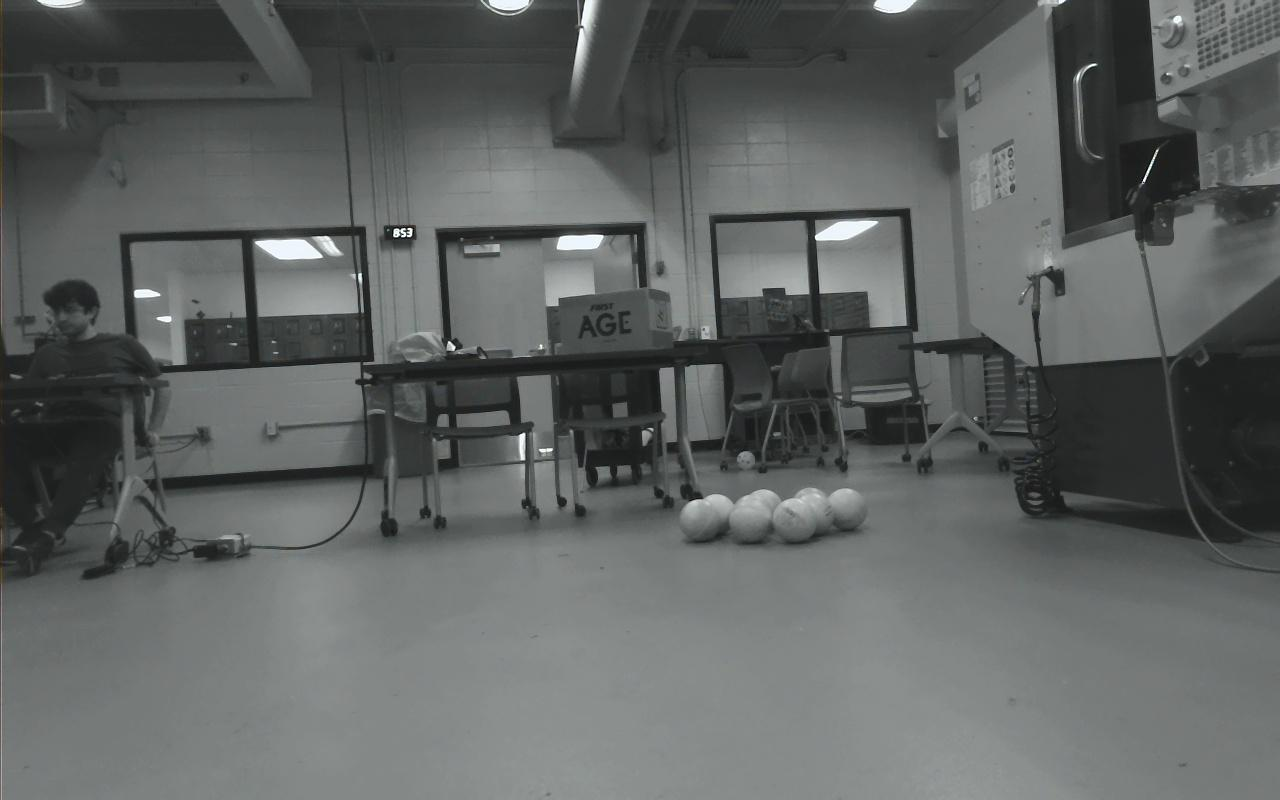Fuel: (773, 498, 818, 544), (728, 499, 771, 544), (680, 498, 721, 542), (826, 488, 867, 532), (792, 494, 832, 538), (733, 494, 774, 534), (698, 494, 735, 538), (744, 489, 781, 532), (792, 487, 829, 524)
